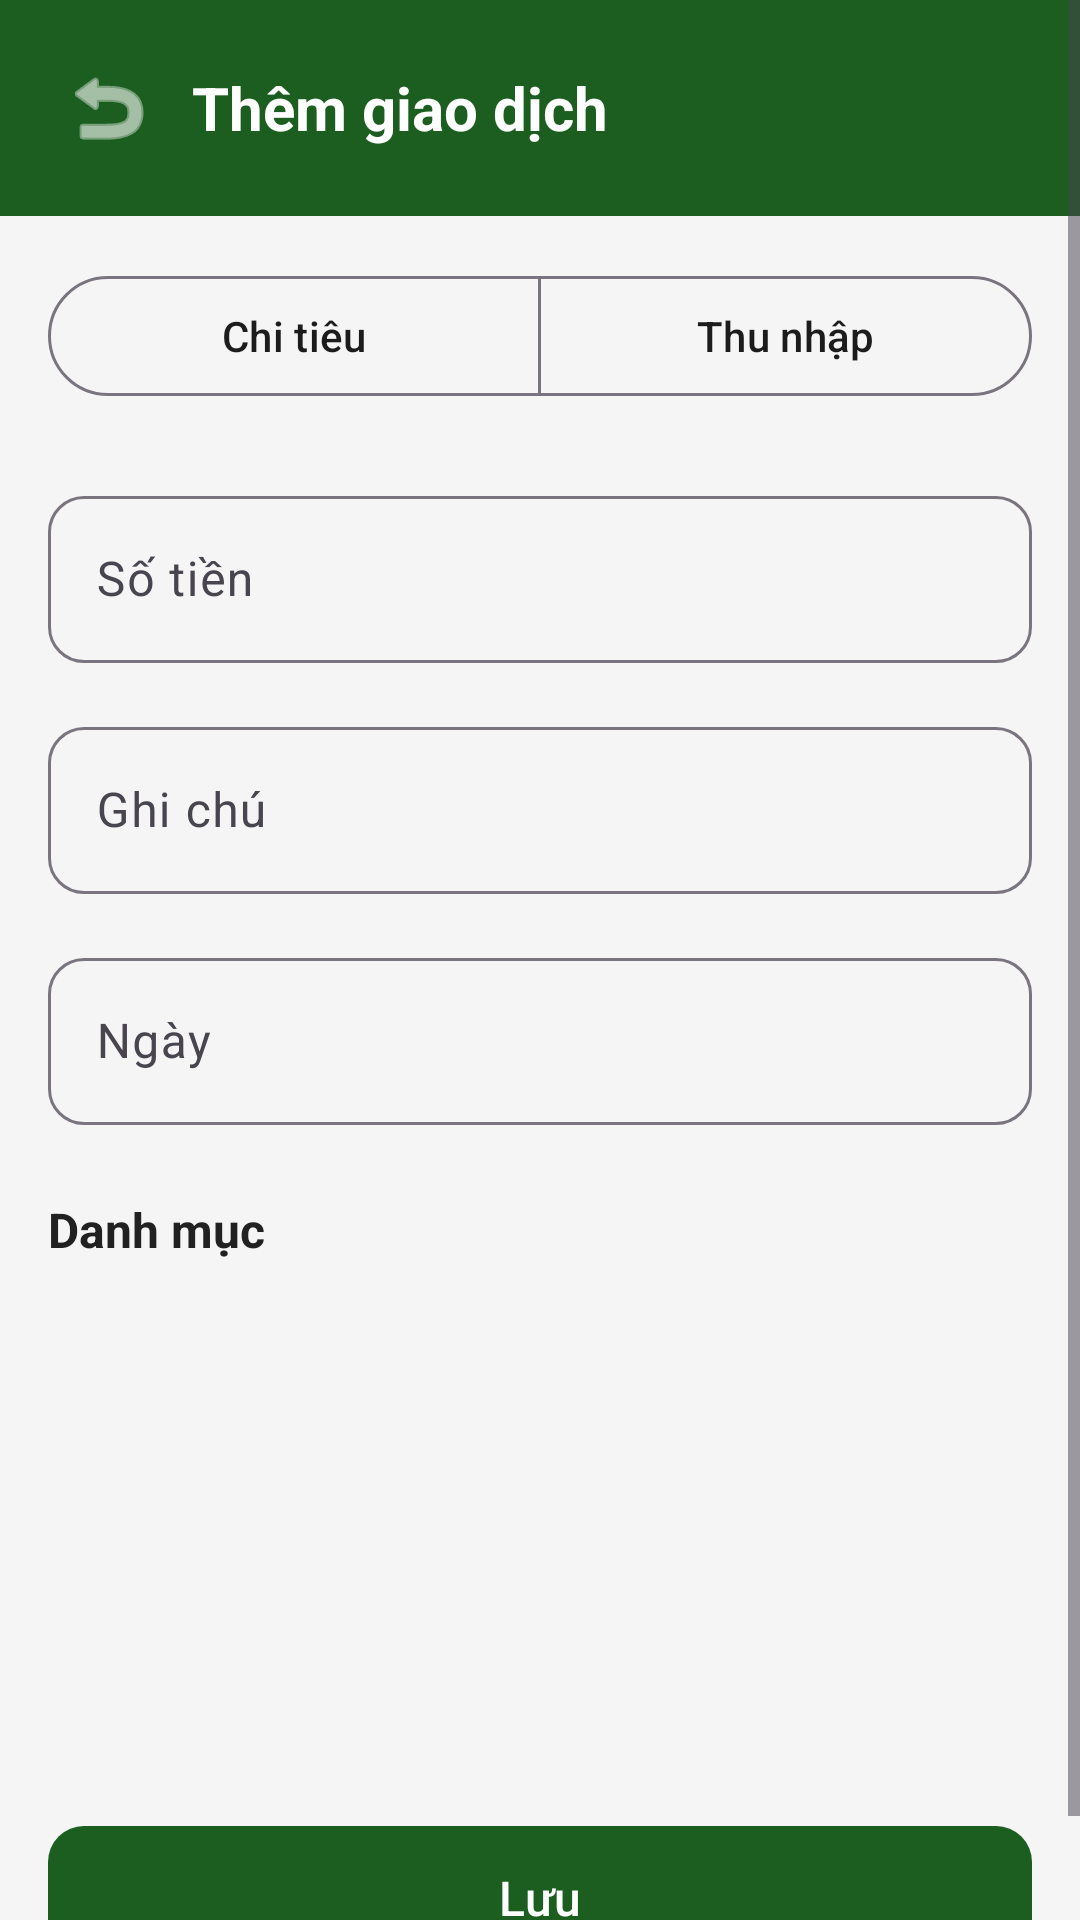

Screen size 1080×1920. Icon name, then its center in pixels as point (x, y):
Quay lại: point (109, 108)
